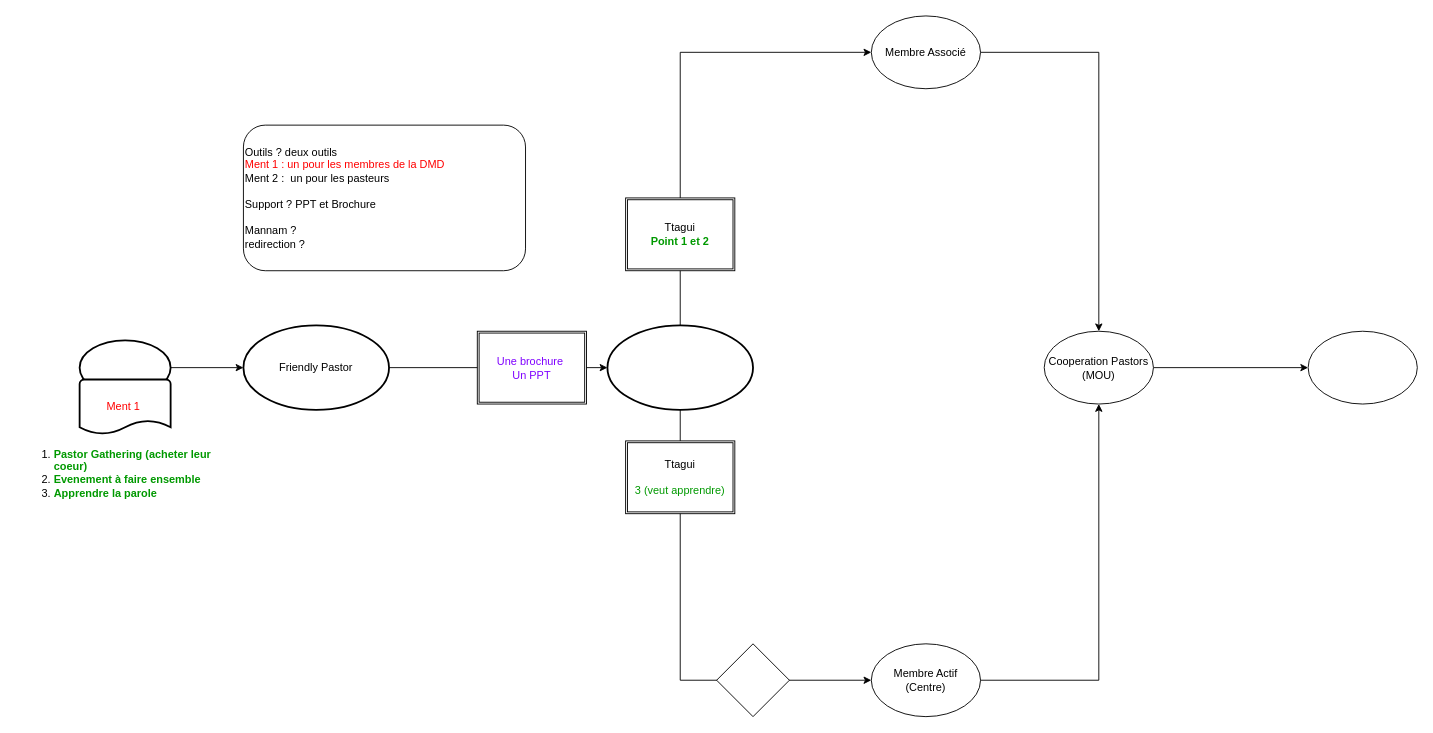
This 1433x733 diagram has some shape labels left out. The box of each missing label's shape, as (x1, y1, x2, y2) in pixels:
BB: (716, 643, 789, 717)
Calling: (78, 339, 171, 395)
Mannam (Offline ou online): (606, 324, 753, 410)
Members of SCJ: (1307, 330, 1417, 404)
